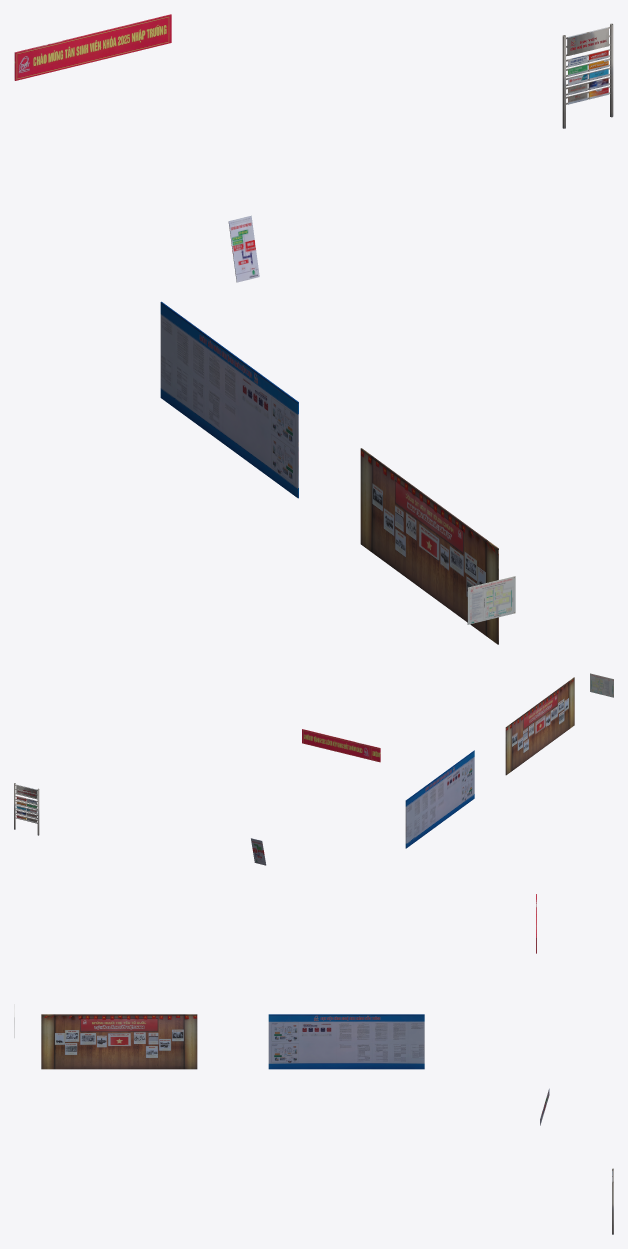
Rendered from Bang_bien_bosung_PTIT.fbx.
3 renders of one model, top to bottom at view 1: azimuth 30°, elevation 25°; view 2: azimuth 150°, elevation 25°; view 3: azimuth 270°, elevation 25°, orthographic. The views are drawn at different scales.
Visible parts, largest first — view 1: BangA1.003, BangA1.002, BangA2.005, BangA2, BangA1.01, BangA2.004; view 2: BangA1.003, BangA1.002, BangA2.005, BangA2, BangA1.01, BangA2.004; view 3: BangA1.002, BangA1.003.
Boxes of the visible parts, left/top/right/bottom form: BangA1.003: left=160, top=301, right=298, bottom=498; BangA1.002: left=360, top=448, right=498, bottom=644; BangA2.005: left=14, top=14, right=171, bottom=80; BangA2: left=562, top=23, right=613, bottom=128; BangA1.01: left=467, top=576, right=515, bottom=624; BangA2.004: left=228, top=215, right=259, bottom=282; BangA1.003: left=405, top=750, right=474, bottom=848; BangA1.002: left=505, top=677, right=574, bottom=775; BangA2.005: left=302, top=729, right=380, bottom=762; BangA2: left=14, top=783, right=39, bottom=835; BangA1.01: left=590, top=673, right=613, bottom=697; BangA2.004: left=251, top=838, right=266, bottom=865; BangA1.002: left=41, top=1014, right=197, bottom=1069; BangA1.003: left=268, top=1014, right=424, bottom=1069.
Bounding box in the file's own units: 2580 × 1054 × 3510.
6 materials, 6 textured.
